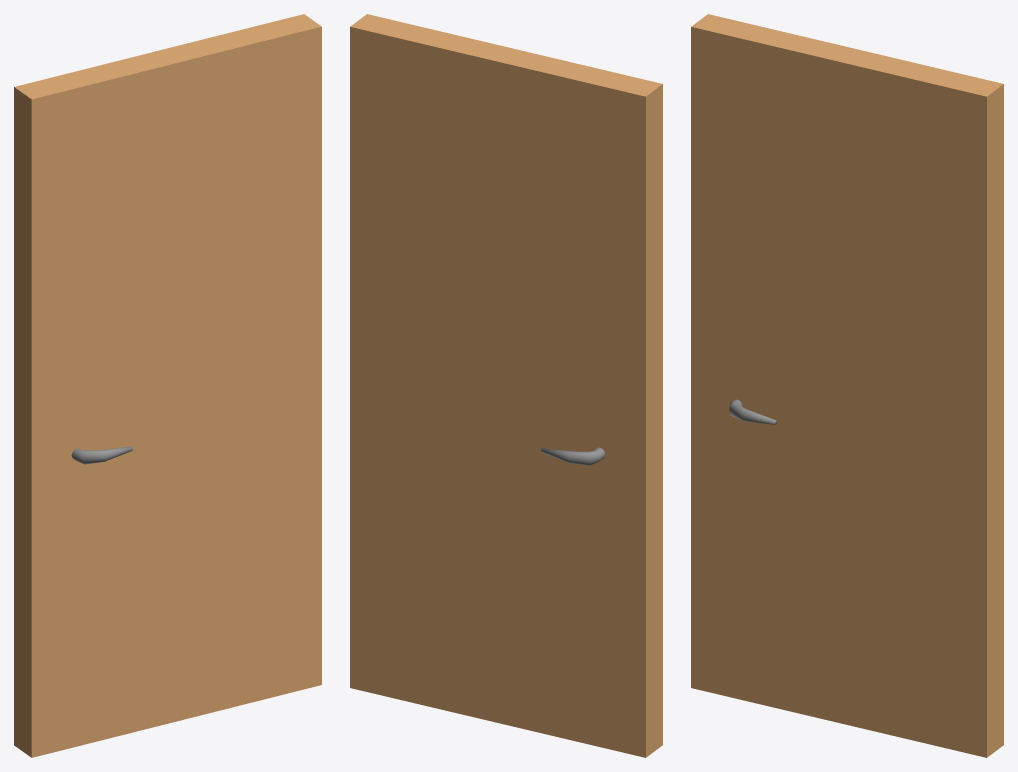
The model's file is door.fbx.
The picture shows the model from 3 angles, left to right: view 1: azimuth 30°, elevation 25°; view 2: azimuth 150°, elevation 25°; view 3: azimuth 330°, elevation 25°; orthographic projection.
Visible parts, largest first — view 1: deur_gt_1f; view 2: deur_gt_1f; view 3: deur_gt_1f.
Part boxes in pixels (bbox=[...]): deur_gt_1f: bbox=[14, 14, 321, 757]; deur_gt_1f: bbox=[350, 14, 662, 757]; deur_gt_1f: bbox=[691, 14, 1003, 757].
Size of the model in its own units: 200 by 431 by 50.86.
